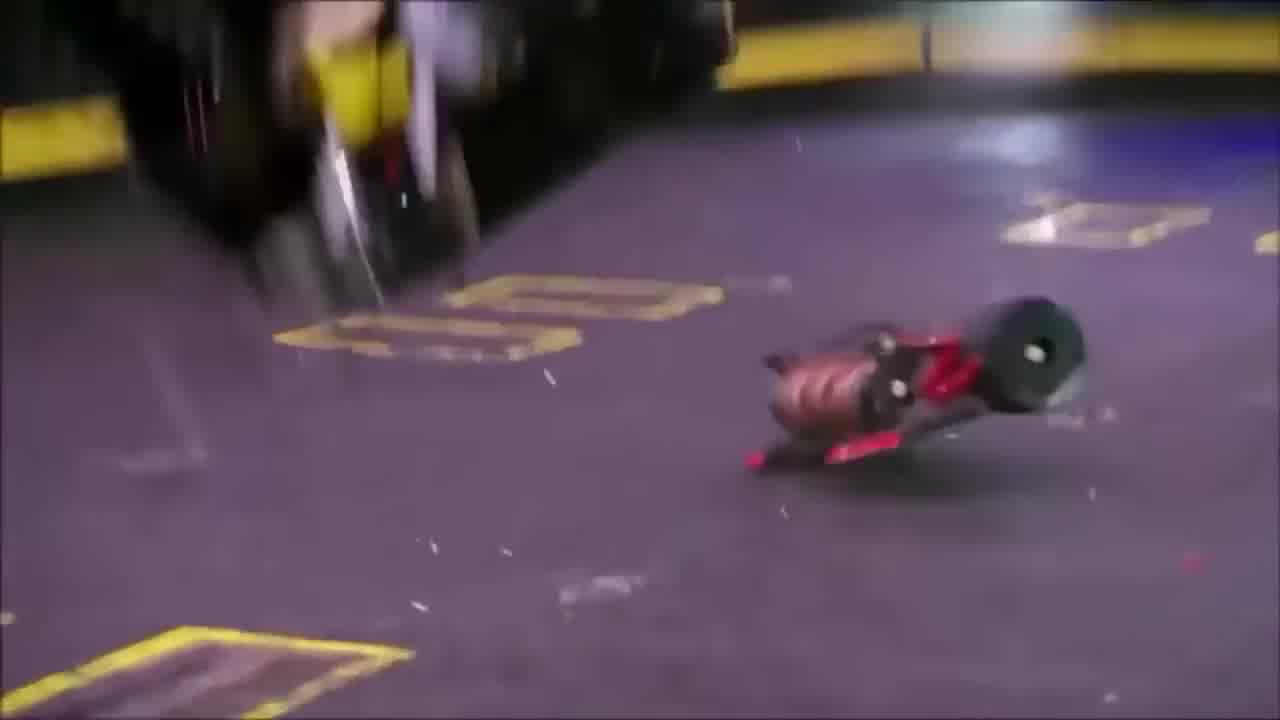combatbot: (72, 0, 737, 335), (746, 292, 1087, 470)
